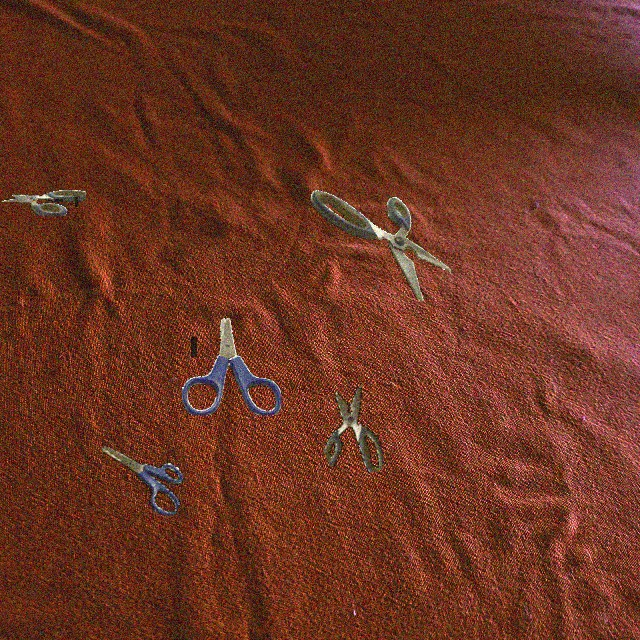scissors: (310, 190, 451, 301), (182, 318, 281, 415), (102, 445, 183, 515), (323, 385, 383, 472), (2, 190, 86, 216)
